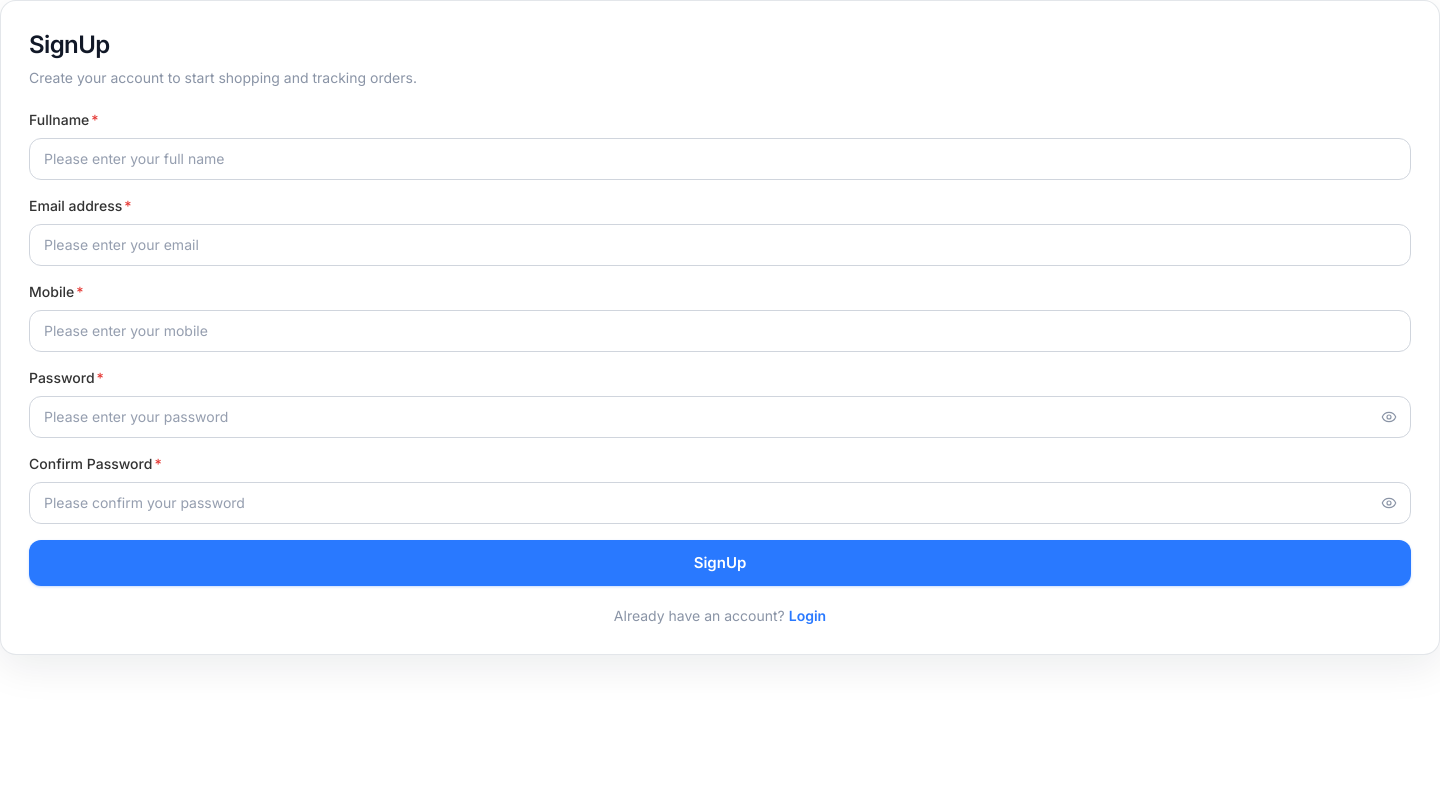
Test: SignUpForm › submits valid sign-up and redirects to login
Type "John Smith" into the field labelled "Fullname*" at (720, 159), box x1=29 y1=138 x2=1411 y2=180
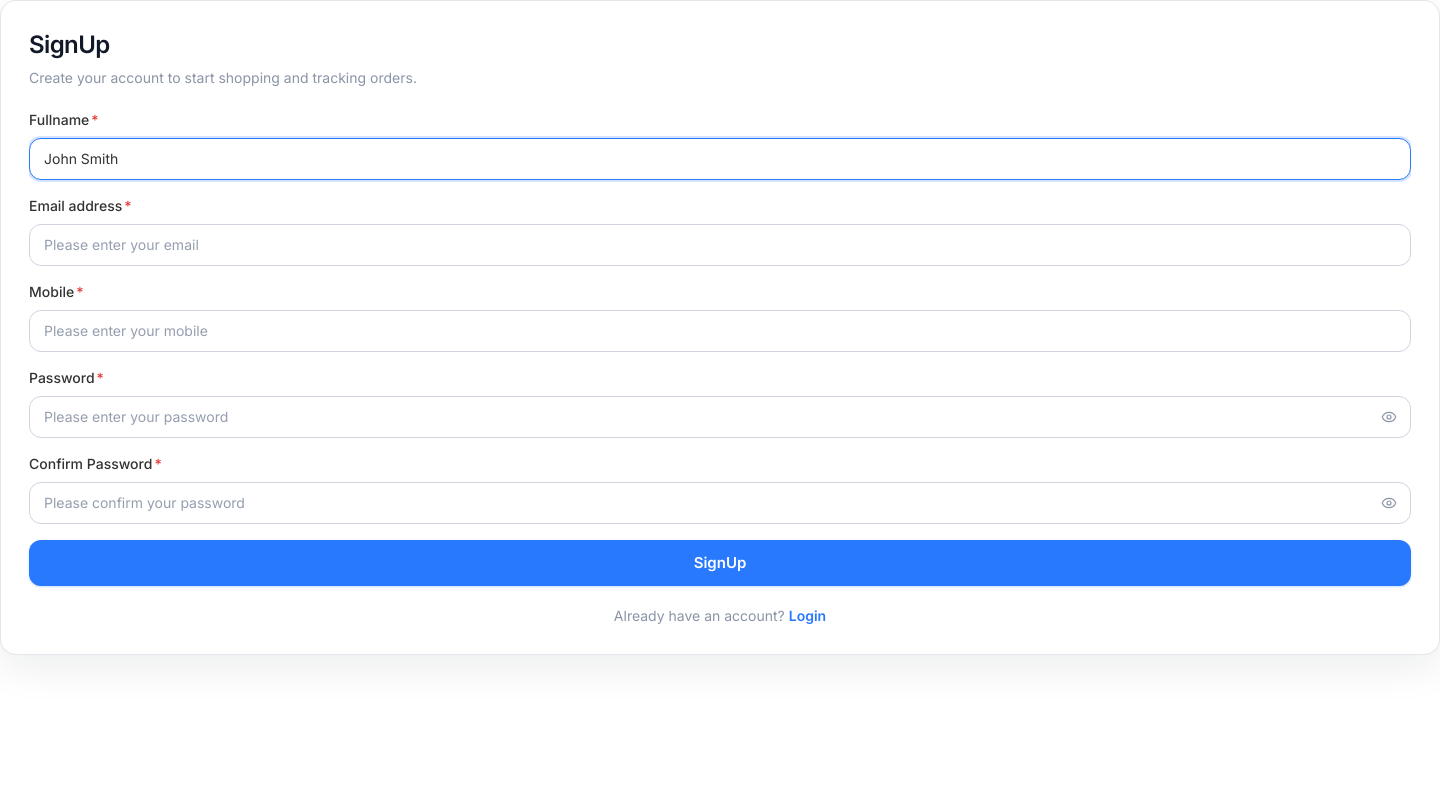
Type "john@example.com" into the field labelled "Email address*" at (720, 245), box x1=29 y1=224 x2=1411 y2=266
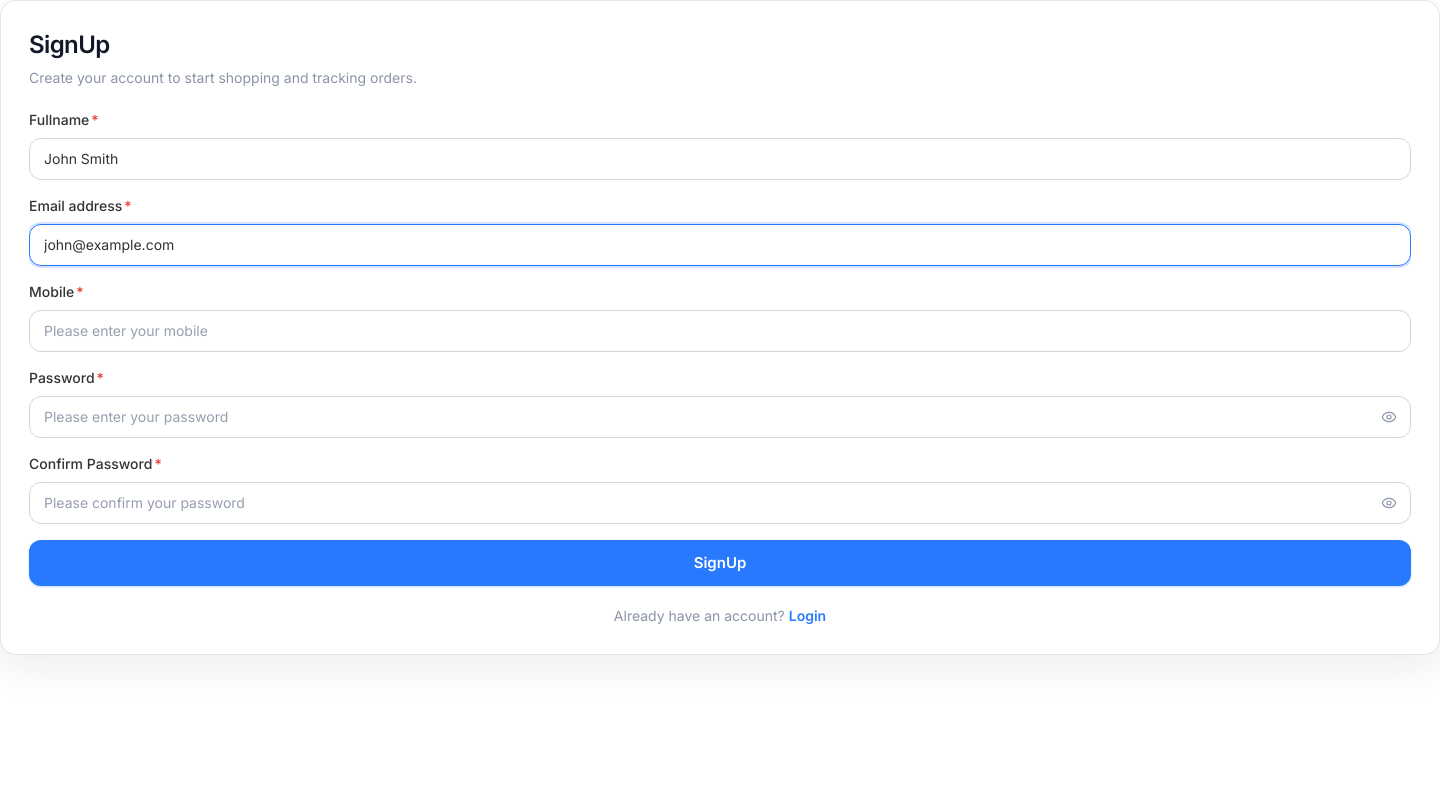
Type "+911122334455" into the field labelled "Mobile*" at (720, 331), box x1=29 y1=310 x2=1411 y2=352
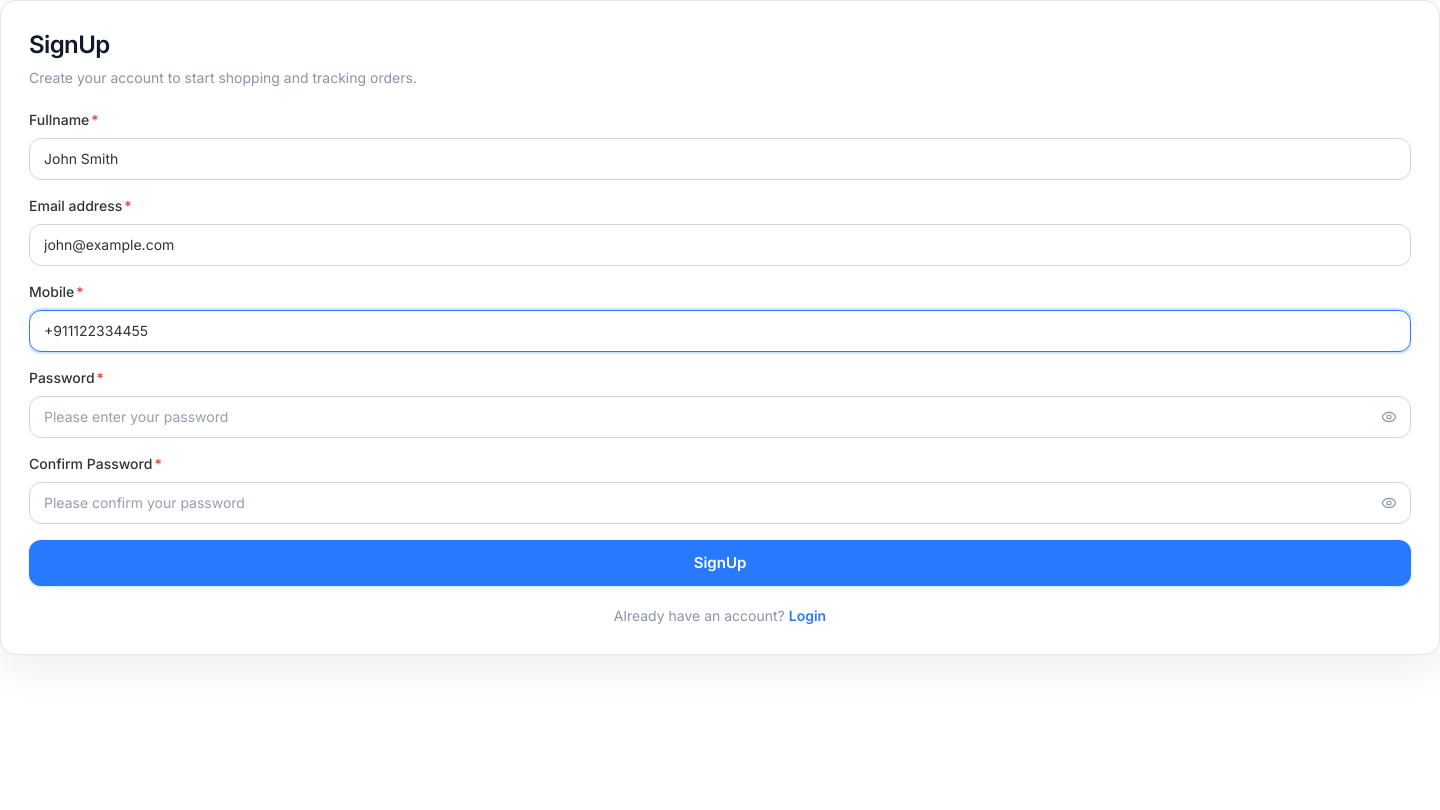
Type "SecurePass1!" into the password field with placeholder "Please enter your password" at (720, 417), box x1=29 y1=396 x2=1411 y2=438
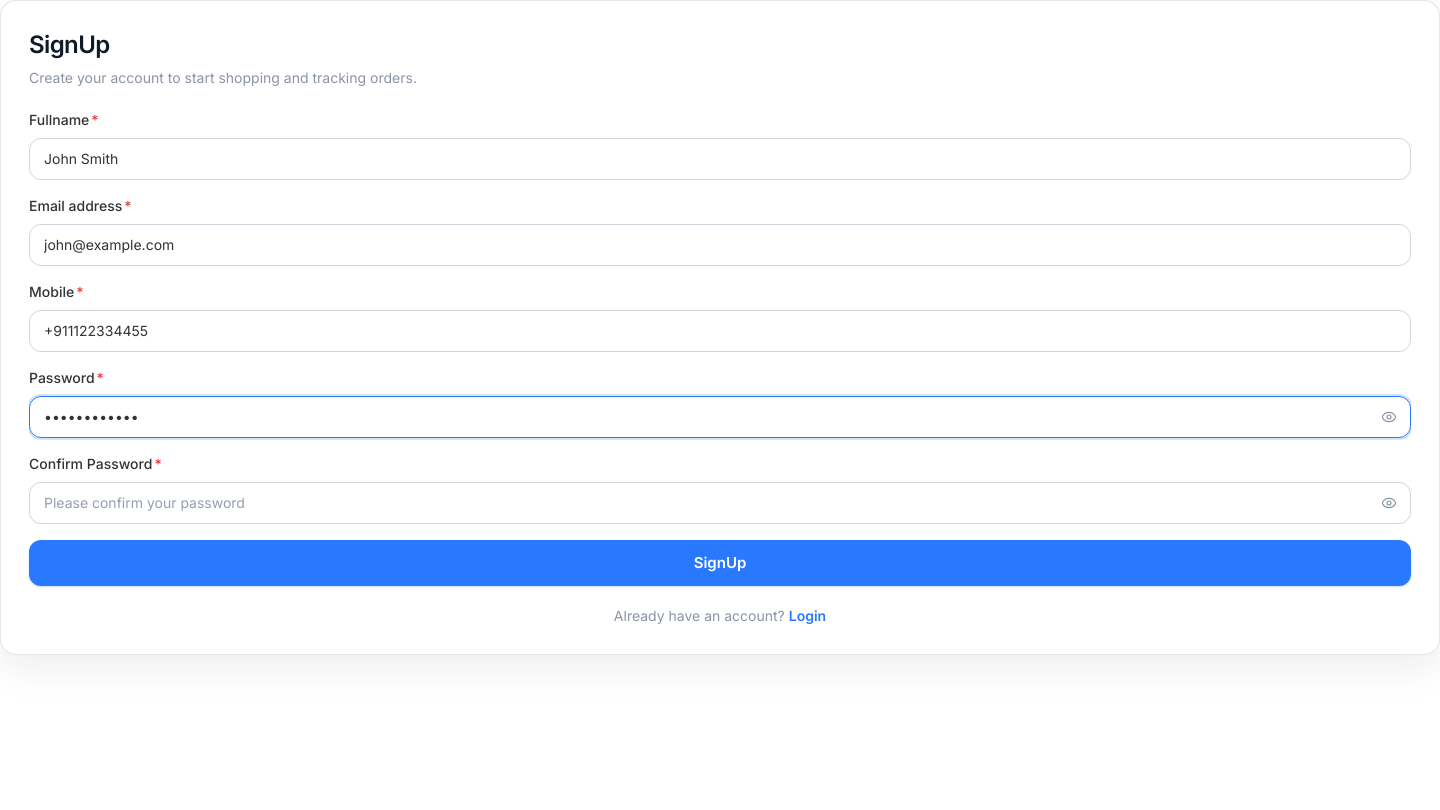
Type "SecurePass1!" into the password field with placeholder "Please confirm your password" at (720, 503), box x1=29 y1=482 x2=1411 y2=524
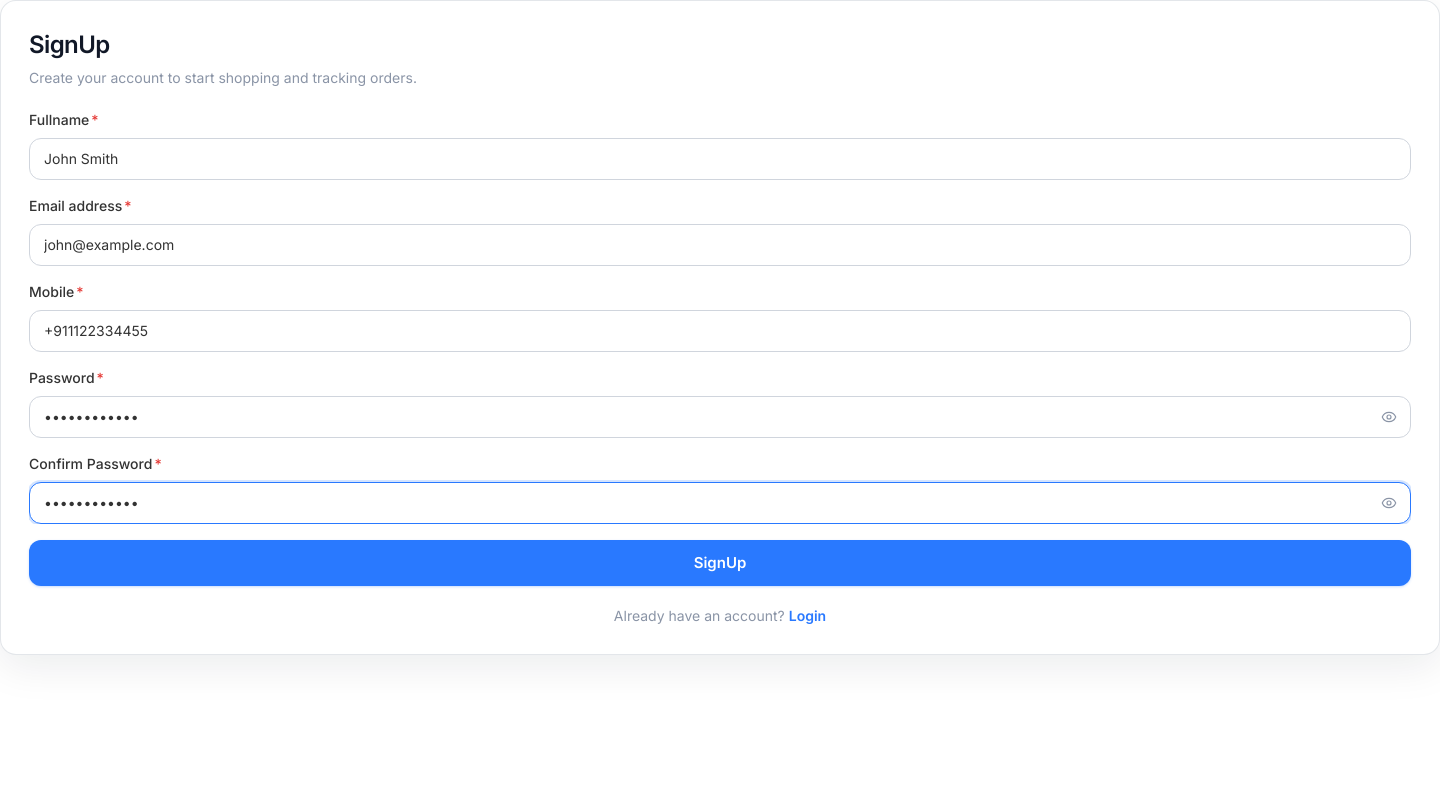
Click the button "SignUp" at (720, 563), box x1=29 y1=540 x2=1411 y2=586
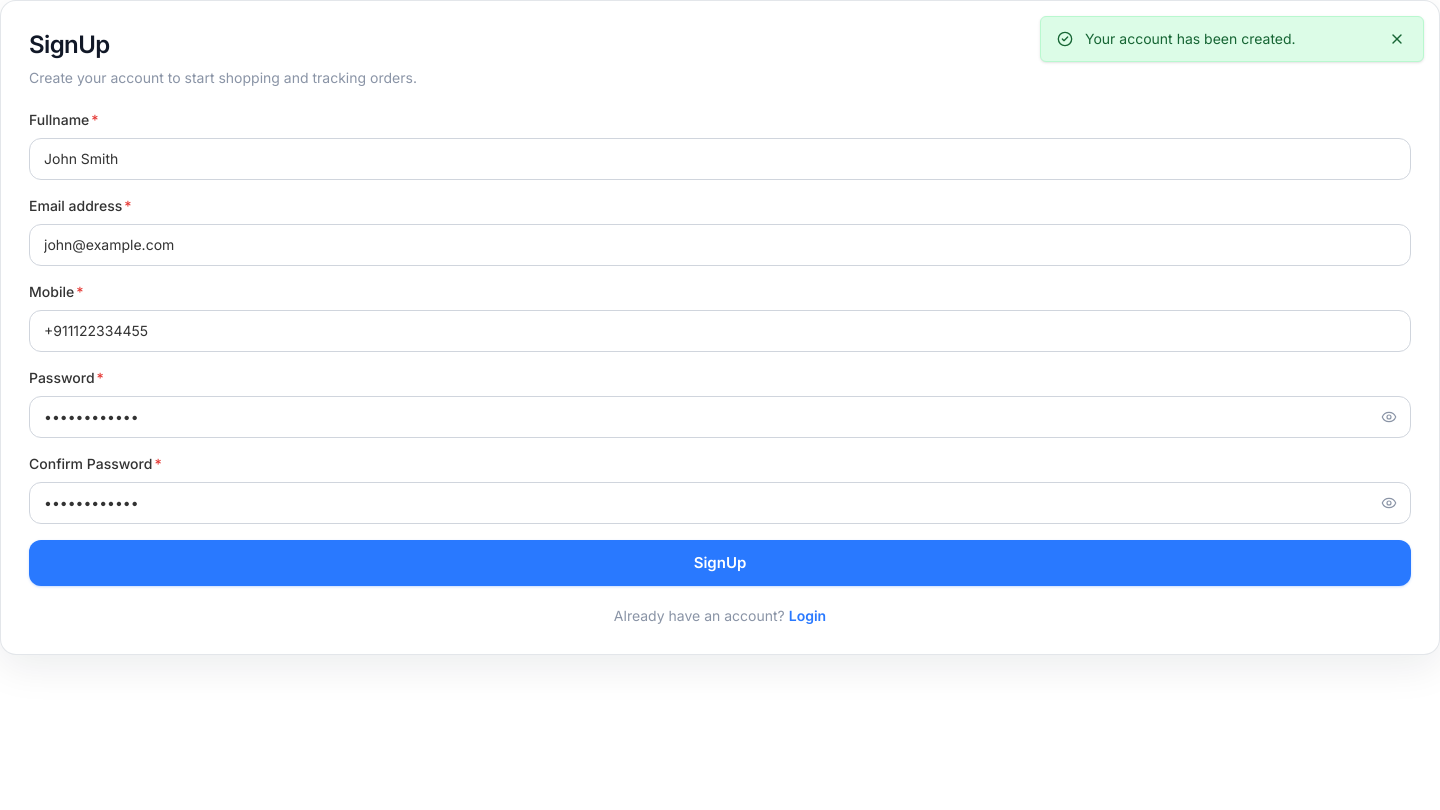
Result: the text "Your account has been created." is shown at x1=1085 y1=30 x2=1296 y2=47
